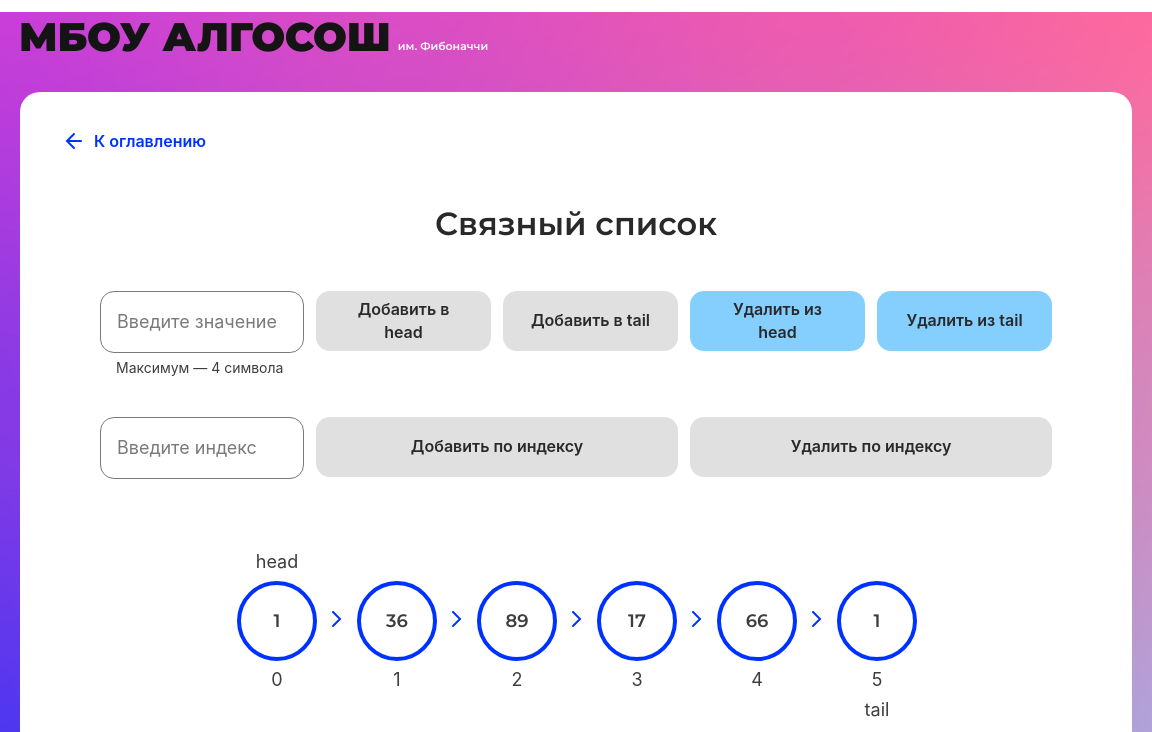
Страница Связный список отображается корректно › Элемент удаляется из head
Click the button with test id "deletefromheadbutton" at (778, 321), box [690,291,865,351]
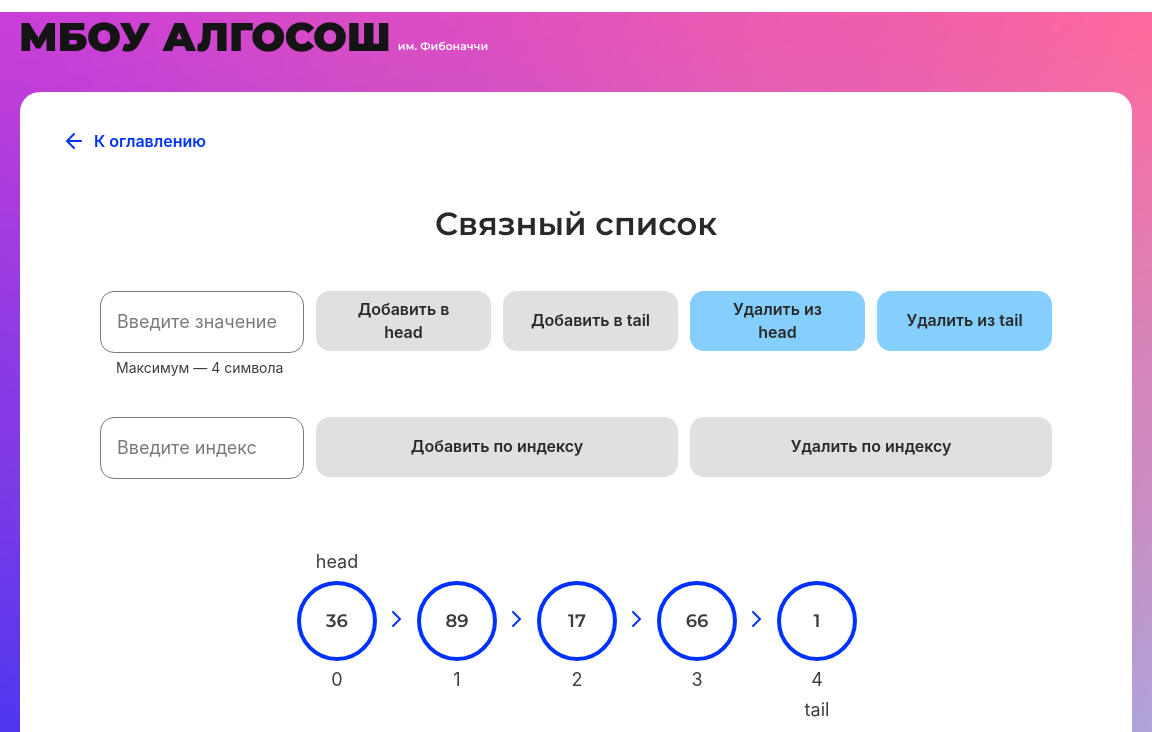
Check: the text "head" is shown, box [316,551,358,573]
Check: the number of elements with test id "circle" is 5, box [297,581,377,661]; [417,581,497,661]; [537,581,617,661]; [657,581,737,661]; [777,581,857,661]
Check: the number of elements with test id "arrow" is 4, box [382,607,406,635]; [502,607,526,635]; [622,607,646,635]; [742,607,766,635]
